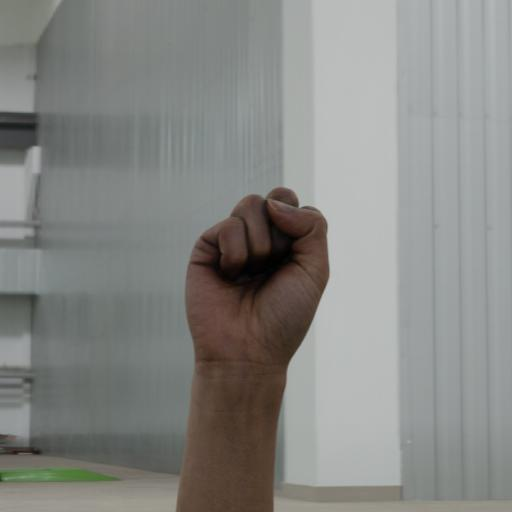S: (161, 178, 338, 511)
